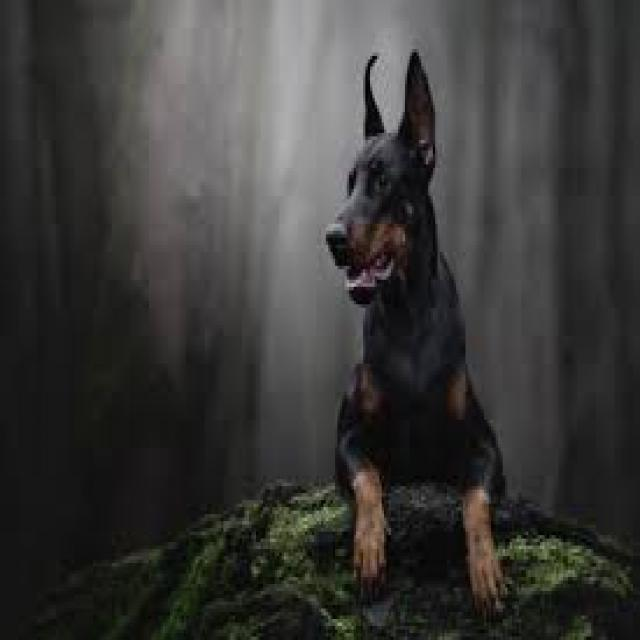Dog: (324, 43, 514, 624)
